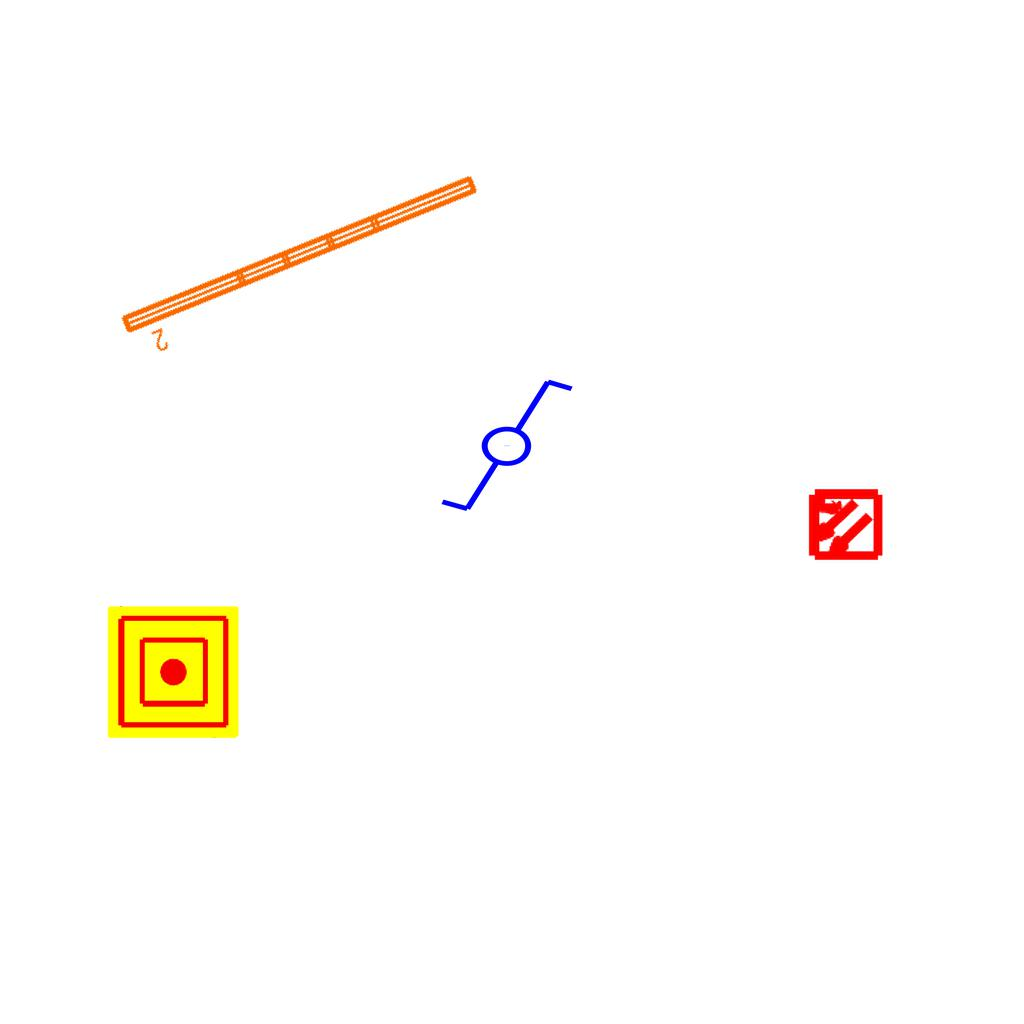Ambulanz_Pendelleuchte_LED: (114, 167, 495, 365)
NAM-Nichtautomatischer_Melder: (107, 606, 239, 738)
OT_Multisensormelder_(Kombination_RMO_WMD): (787, 468, 900, 581)
Wechselschalter: (420, 372, 577, 516)
